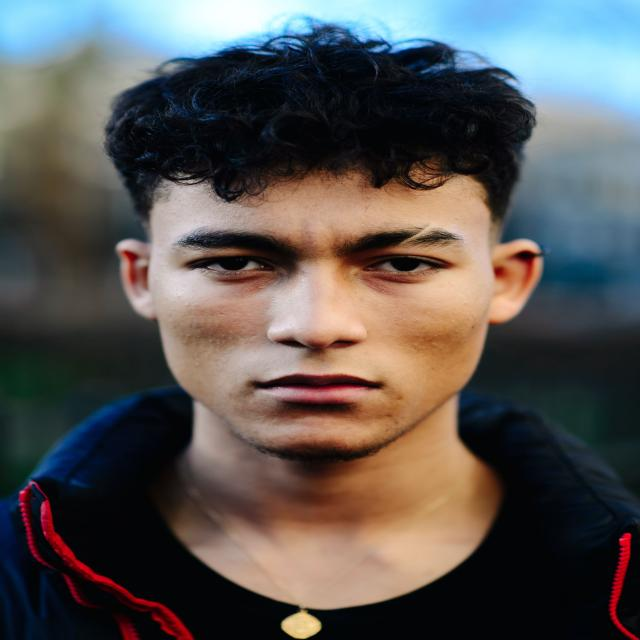front: (107, 161, 526, 459)
